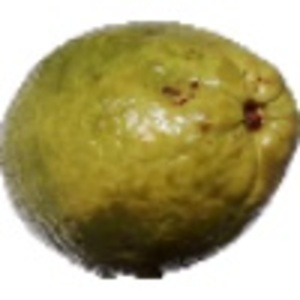goiaba: (5, 15, 294, 280)
